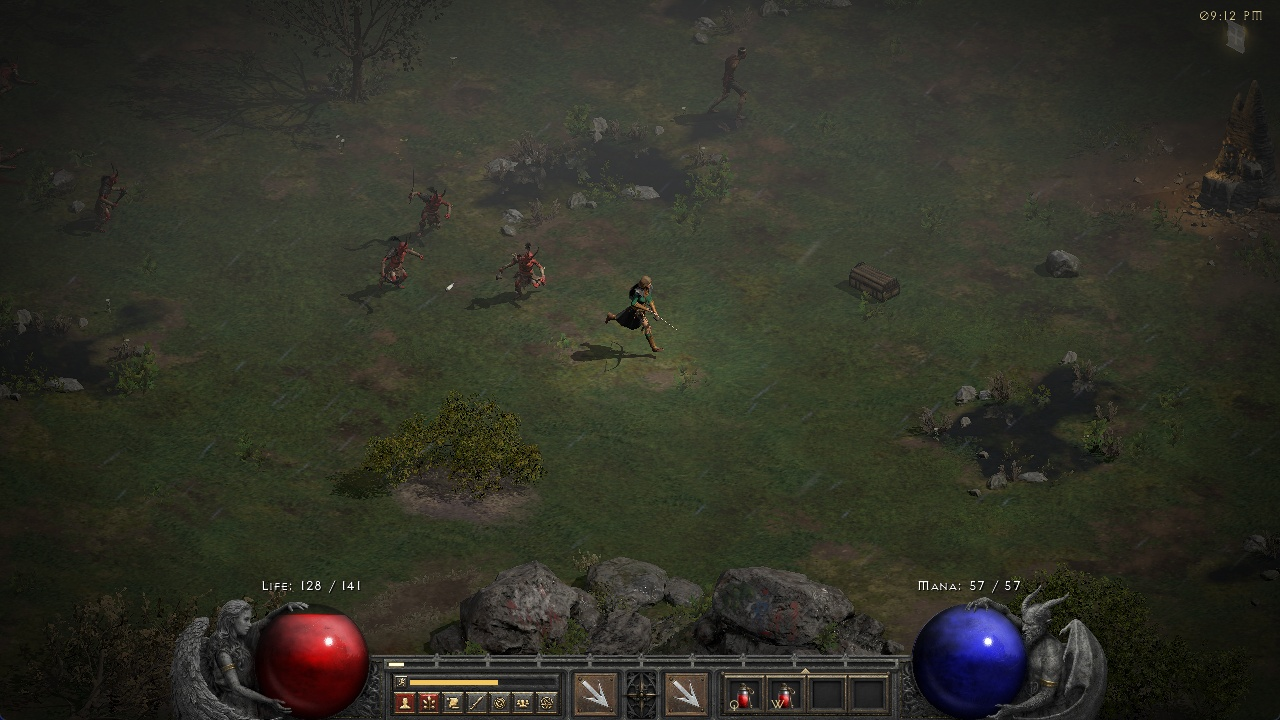fallen: (401, 171, 458, 231), (507, 239, 552, 300), (88, 164, 131, 226), (377, 236, 420, 292)
